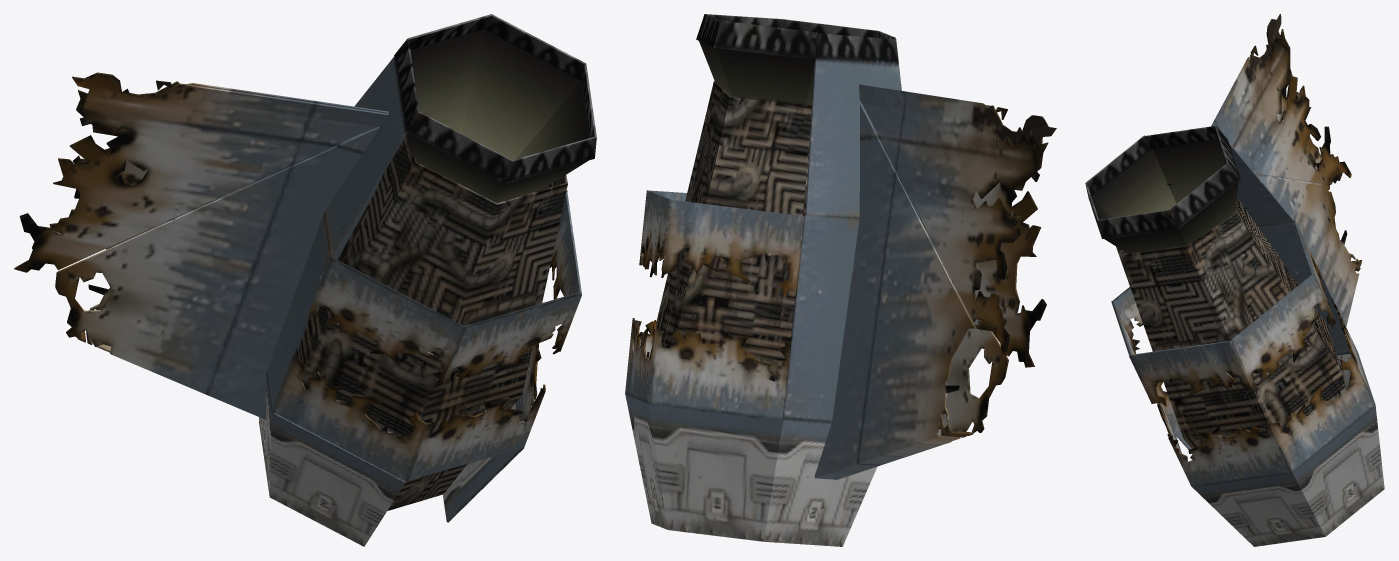
Rendered from crashengine_cad.glb.
3 views of the same model, side by side, from view 1: azimuth 30°, elevation 25°; view 2: azimuth 150°, elevation 25°; view 3: azimuth 270°, elevation 25° (orthographic). The views are drawn at different scales.
Visible parts, largest first — view 1: Crash Engine; view 2: Crash Engine; view 3: Crash Engine.
Part boxes in pixels (bbox=[...]): Crash Engine: bbox=[14, 14, 596, 546]; Crash Engine: bbox=[625, 14, 1056, 546]; Crash Engine: bbox=[1085, 14, 1384, 546].
Size of the model in its own units: 22.9 by 23.69 by 16.02.
1 material, 1 textured.
